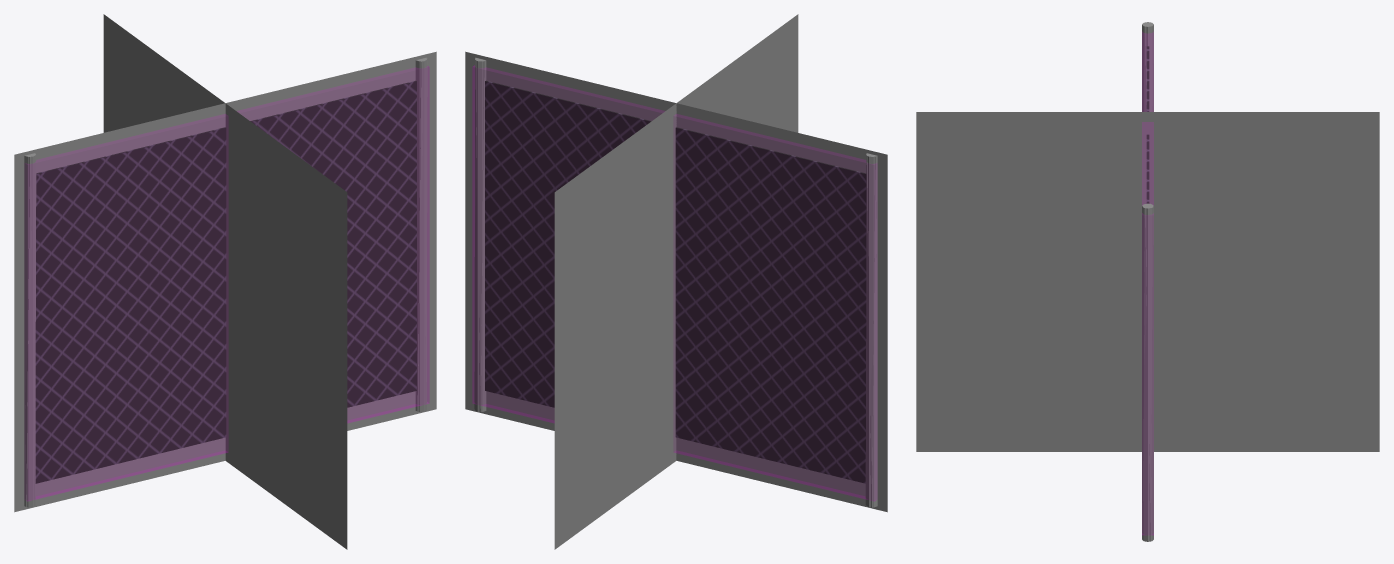
File: chainlink_tall_3m.dae
The picture shows the model from 3 angles, left to right: view 1: azimuth 30°, elevation 25°; view 2: azimuth 150°, elevation 25°; view 3: azimuth 270°, elevation 25°; orthographic projection. The views are drawn at different scales.
Visible parts, largest first — view 1: chainlink_tall_3m_a800, Colmesh_panel-1, chainlink_tall_3m_a50, chainlink_tall_3m_a200; view 2: chainlink_tall_3m_a800, Colmesh_panel-1, chainlink_tall_3m_a50, chainlink_tall_3m_a200; view 3: chainlink_tall_3m_a50, Colmesh_panel-1, chainlink_tall_3m_a800, chainlink_tall_3m_a200.
Part boxes in pixels (left/top/right/bottom): chainlink_tall_3m_a800: left=24, top=57, right=426, bottom=507; Colmesh_panel-1: left=25, top=66, right=429, bottom=501; chainlink_tall_3m_a50: left=14, top=14, right=436, bottom=549; chainlink_tall_3m_a200: left=25, top=58, right=427, bottom=507; chainlink_tall_3m_a800: left=475, top=57, right=877, bottom=507; Colmesh_panel-1: left=472, top=65, right=876, bottom=501; chainlink_tall_3m_a50: left=465, top=14, right=887, bottom=549; chainlink_tall_3m_a200: left=474, top=58, right=876, bottom=507; chainlink_tall_3m_a50: left=916, top=112, right=1379, bottom=451; Colmesh_panel-1: left=1142, top=33, right=1153, bottom=534; chainlink_tall_3m_a800: left=1142, top=22, right=1153, bottom=541; chainlink_tall_3m_a200: left=1142, top=22, right=1153, bottom=541.
Size of the model in its own units: 3.15 by 3.15 by 2.55.
Materials: 3 (1 with a texture image).
